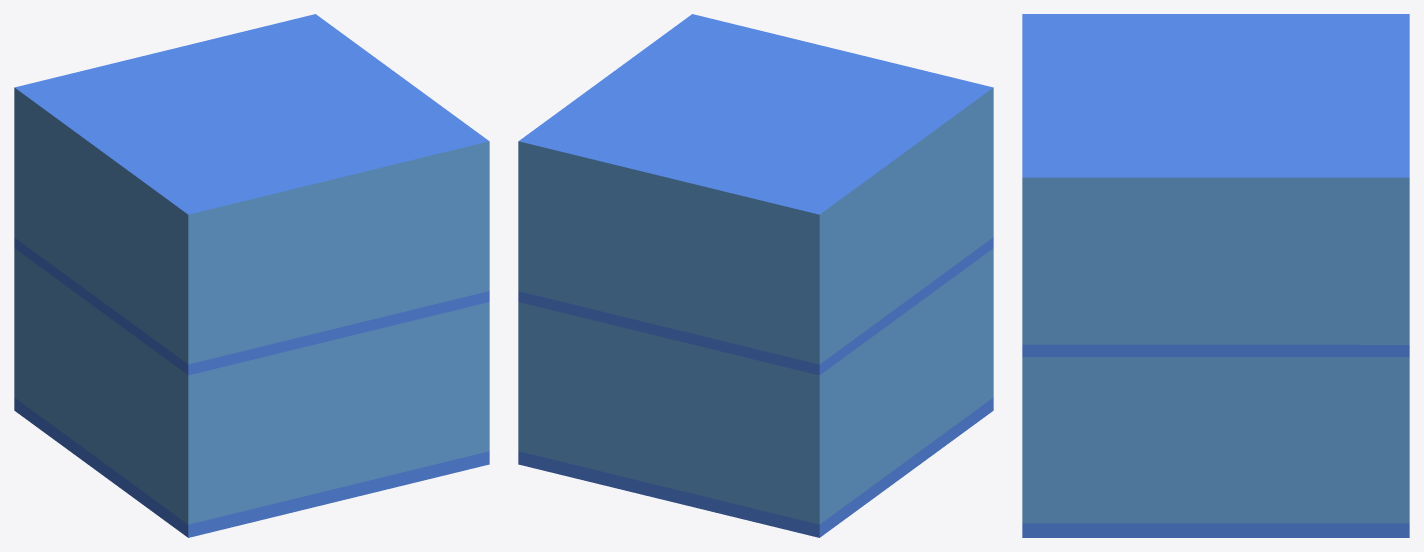
The model's file is building_1x1_8_f.glb.
3 views of the same model, side by side, from view 1: azimuth 30°, elevation 25°; view 2: azimuth 150°, elevation 25°; view 3: azimuth 270°, elevation 25° (orthographic). The views are drawn at different scales.
Visible parts, largest first — view 1: Cube.001; view 2: Cube.001; view 3: Cube.001.
Boxes of the visible parts, left/top/right/bottom form: Cube.001: left=14, top=14, right=489, bottom=537; Cube.001: left=518, top=14, right=993, bottom=537; Cube.001: left=1022, top=14, right=1409, bottom=537.
Bounding box in the file's own units: 1.56 × 1.6 × 1.56.
